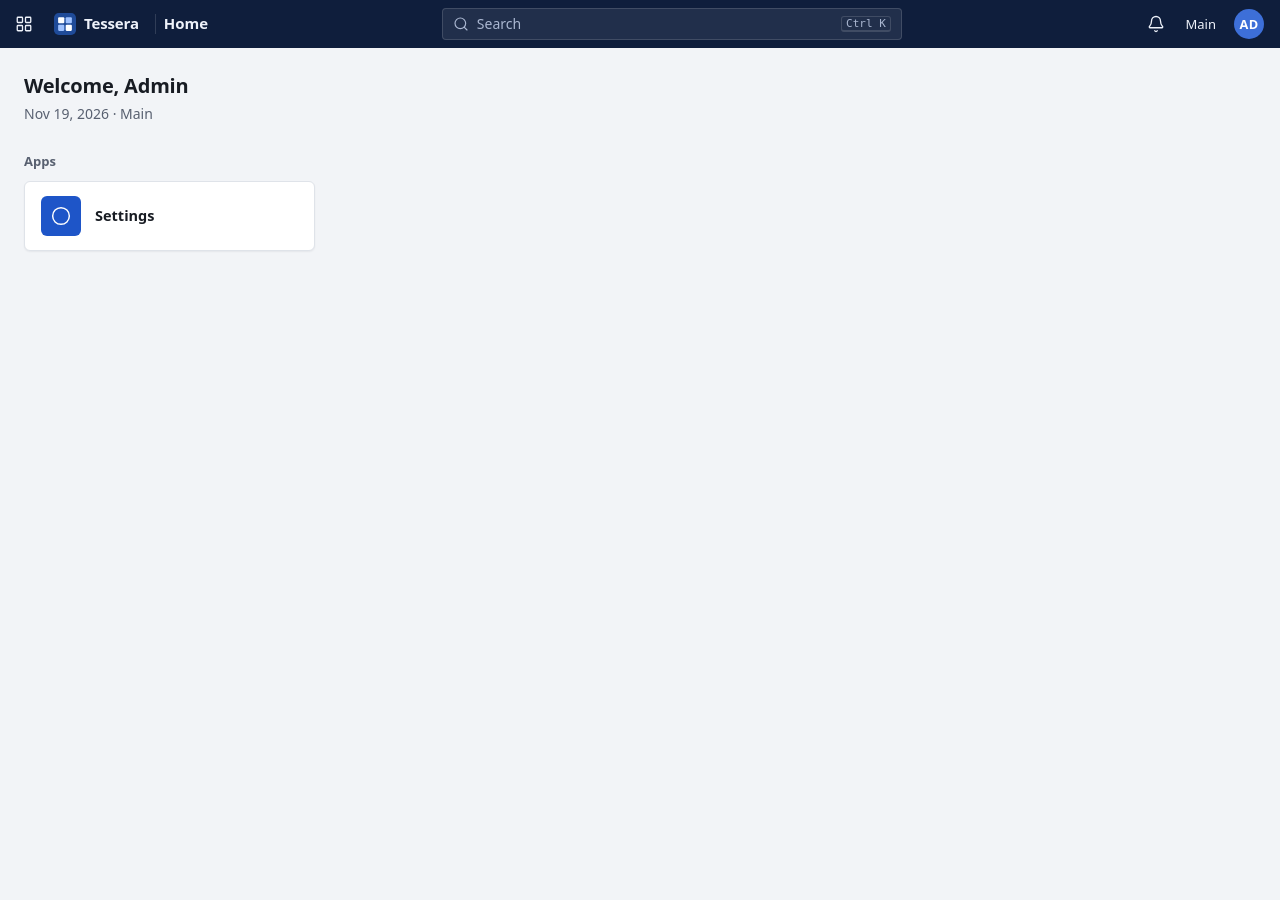
Scenario: login and shell › switches companies, opens the palette and signs out
Expected: the heading "Welcome, Admin" is shown, [24,72,188,100]
Click the button "Main". click: {"x": 1201, "y": 24}
box: [1178,4,1224,44]
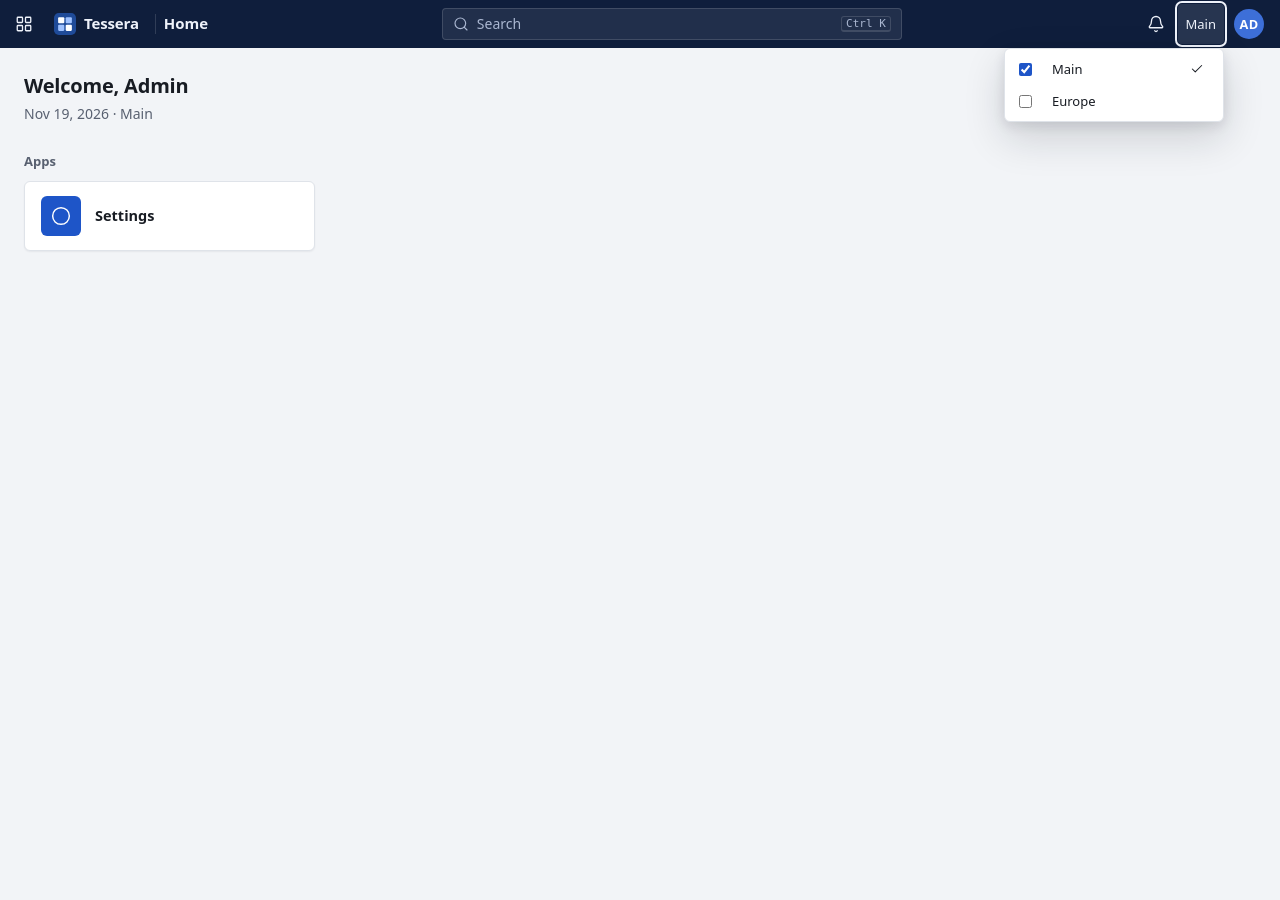
Click the checkbox named "Include Europe". click: {"x": 1026, "y": 101}
box: [1019,94,1032,108]
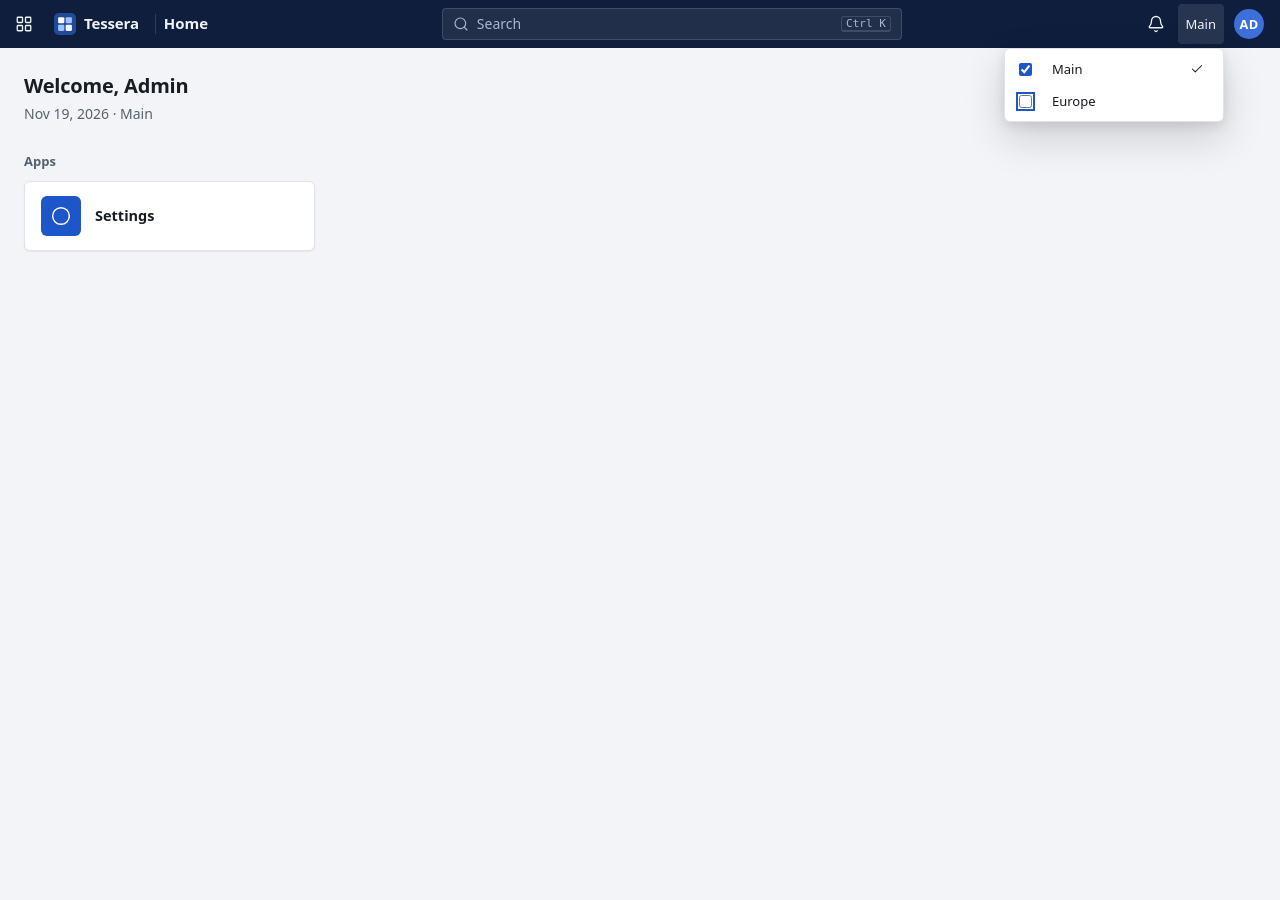
Type keys "{Control>}k{/Control}"
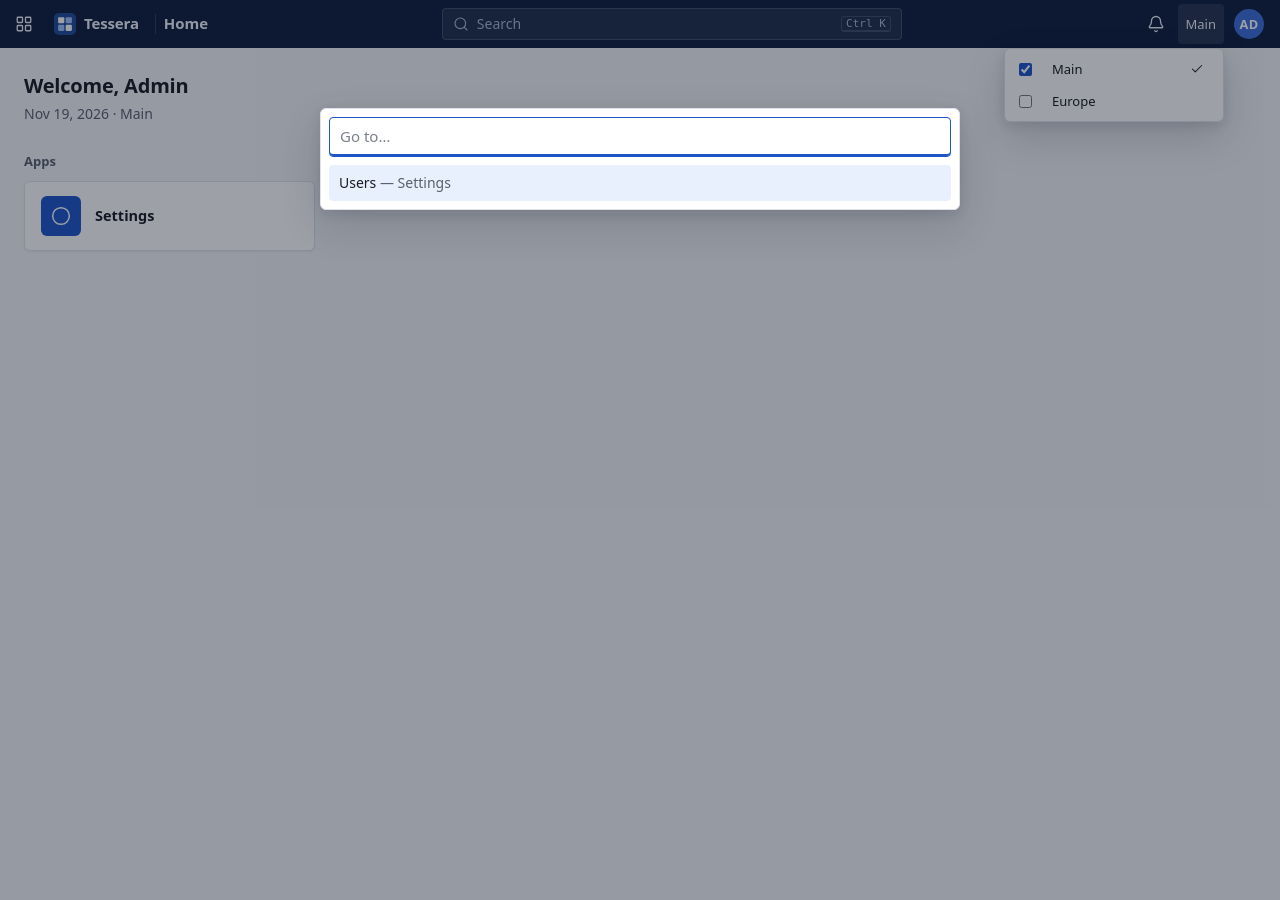
Now the dialog named "Command palette" is shown, box [320,108,960,210]
Type keys "users{Enter}"
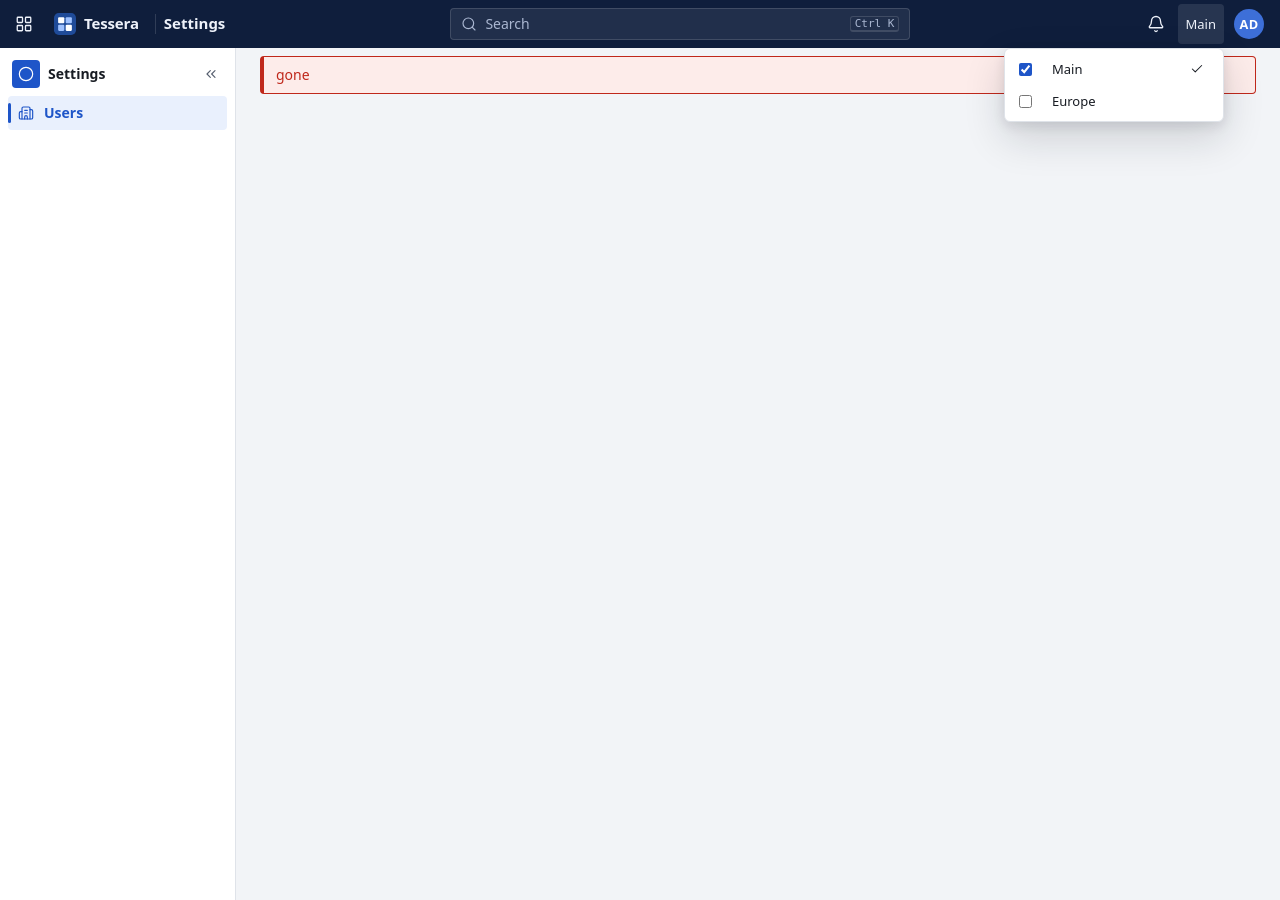
Now the message reads "gone", box [276,65,310,84]
Click the button with aria-label "Admin". click: {"x": 1249, "y": 24}
box: [1226,4,1272,44]
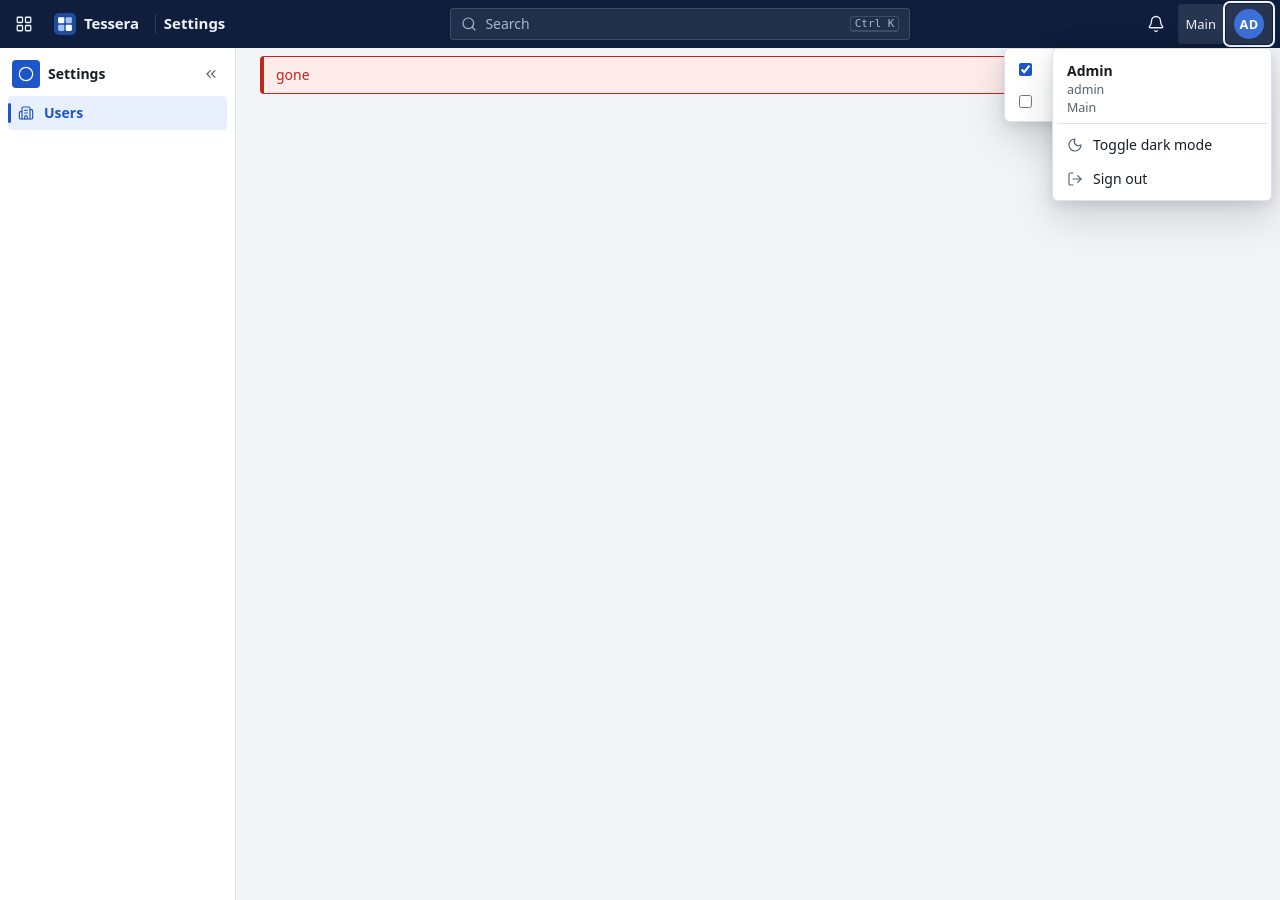
Click the menu item "Sign out". click: {"x": 1162, "y": 179}
box: [1057,162,1267,196]
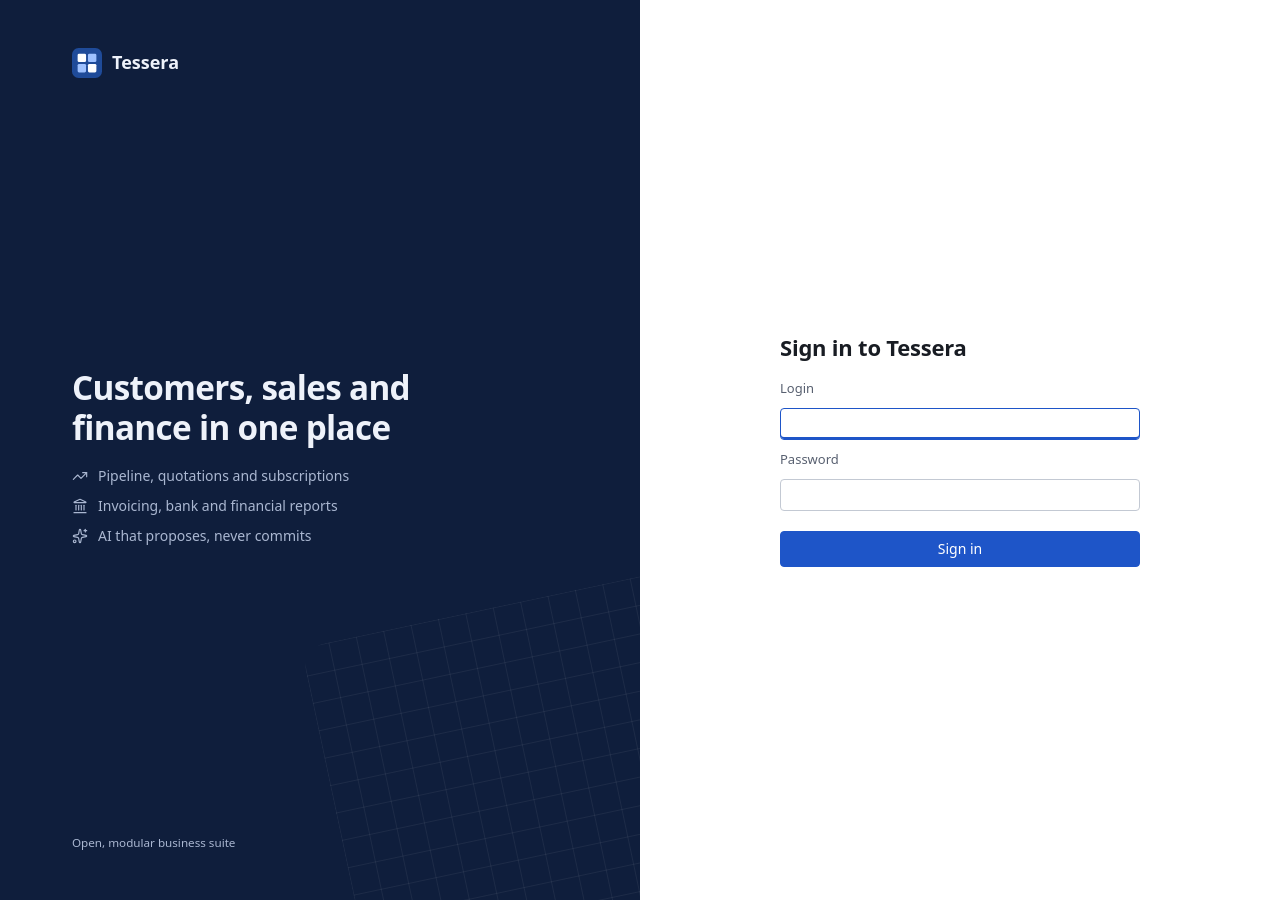
Now the heading "Sign in to Tessera" is shown, box [780,332,967,362]
